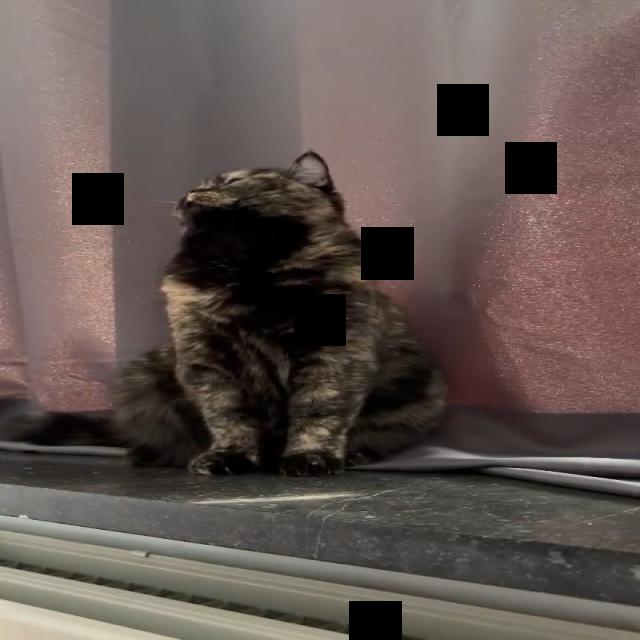authorized: (108, 149, 449, 477)
